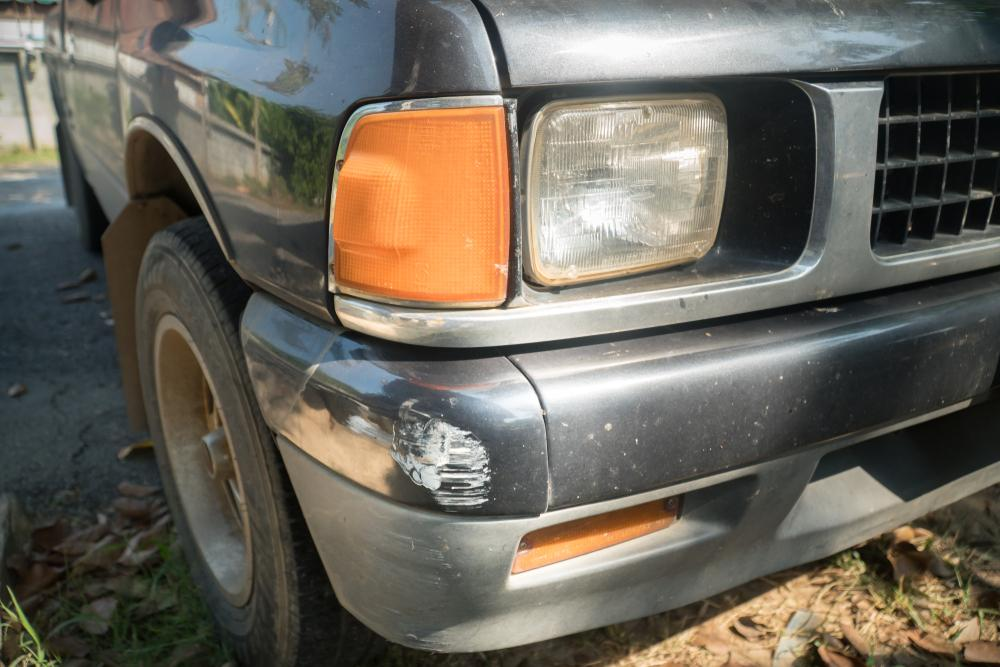scratch: (348, 392, 493, 512)
